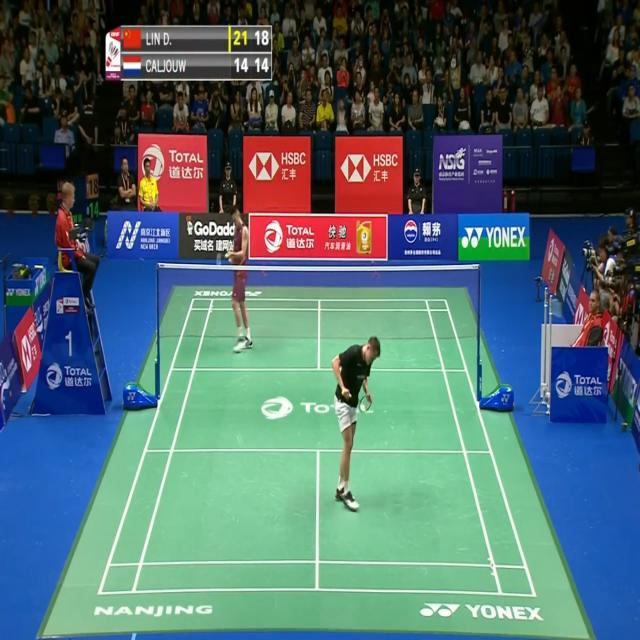Player1: (330, 329, 382, 515)
Player2: (220, 202, 257, 358)
